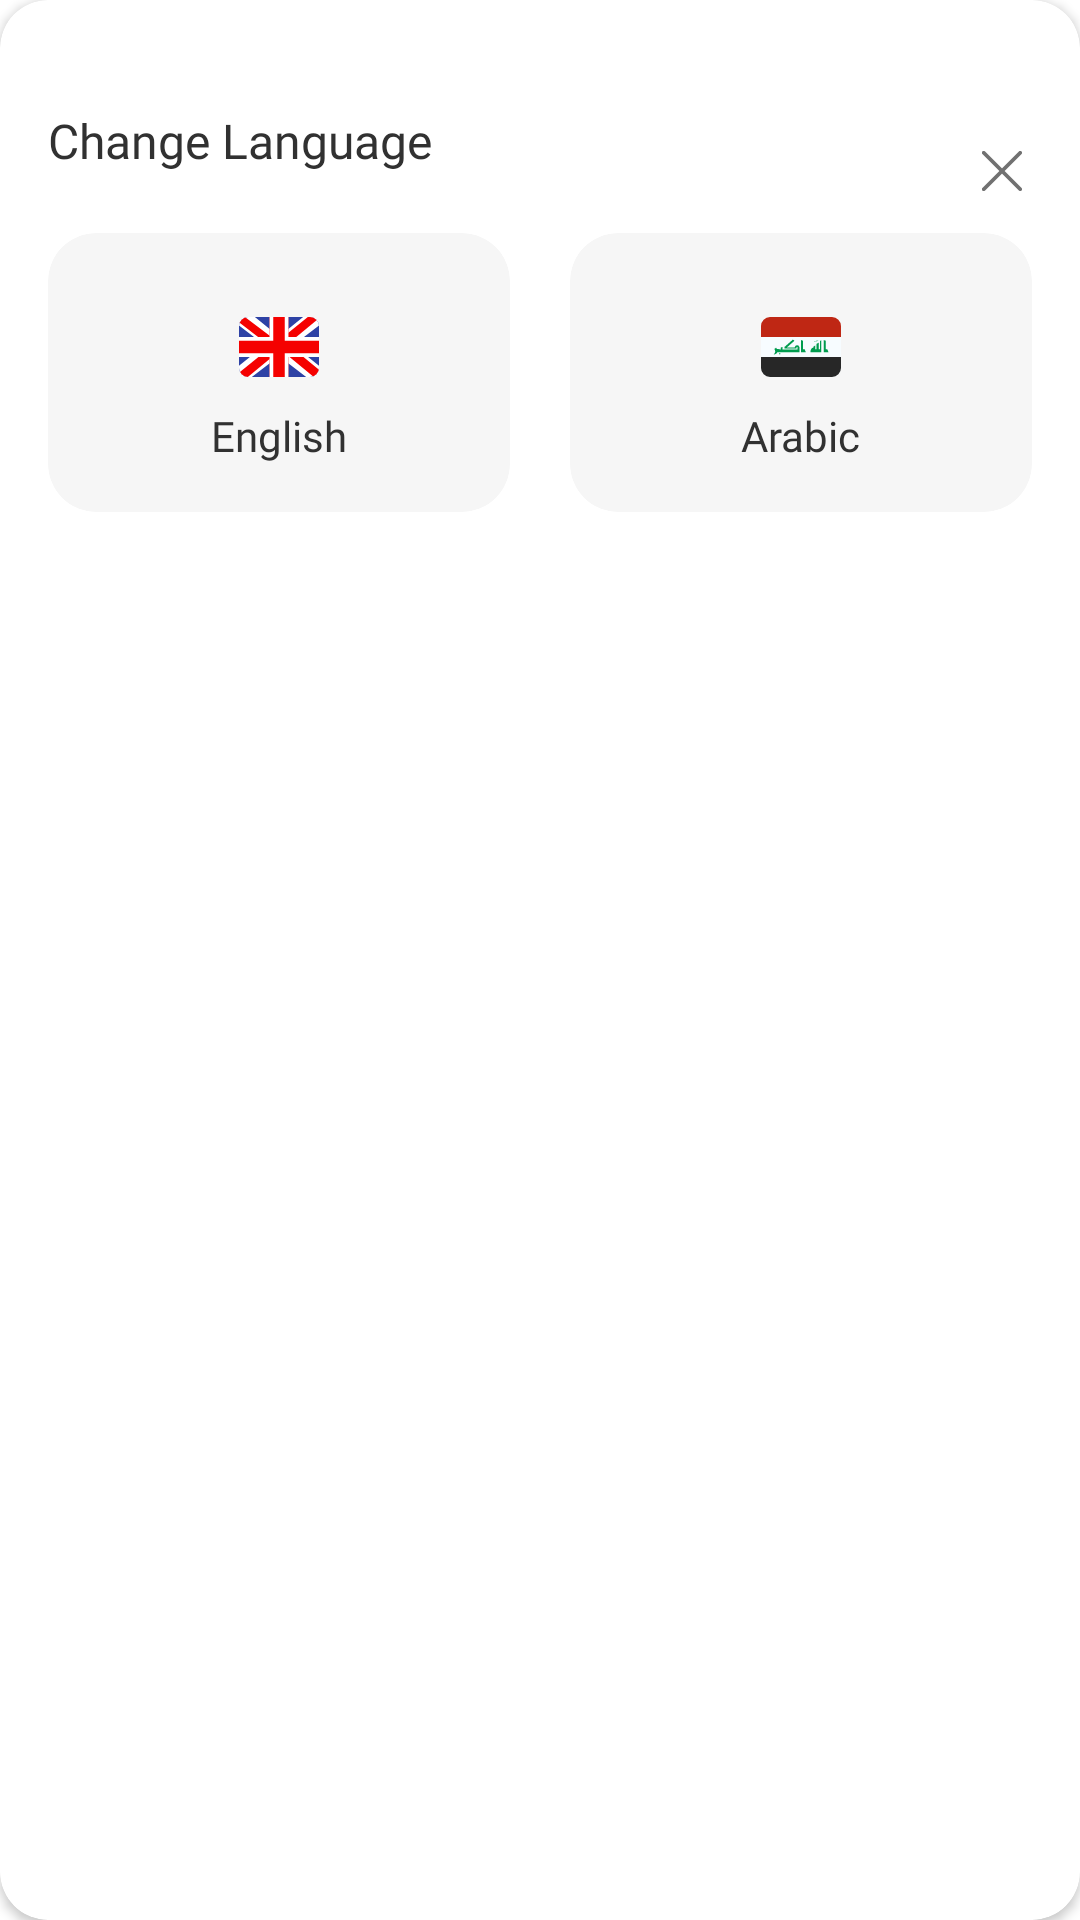

Locate icon controls on the screen. Image size 1080px x 1920px, boxes as bbox(x1, y1, x2, y2).
close: bbox(982, 151, 1022, 191)
iraq: bbox(761, 317, 841, 377)
